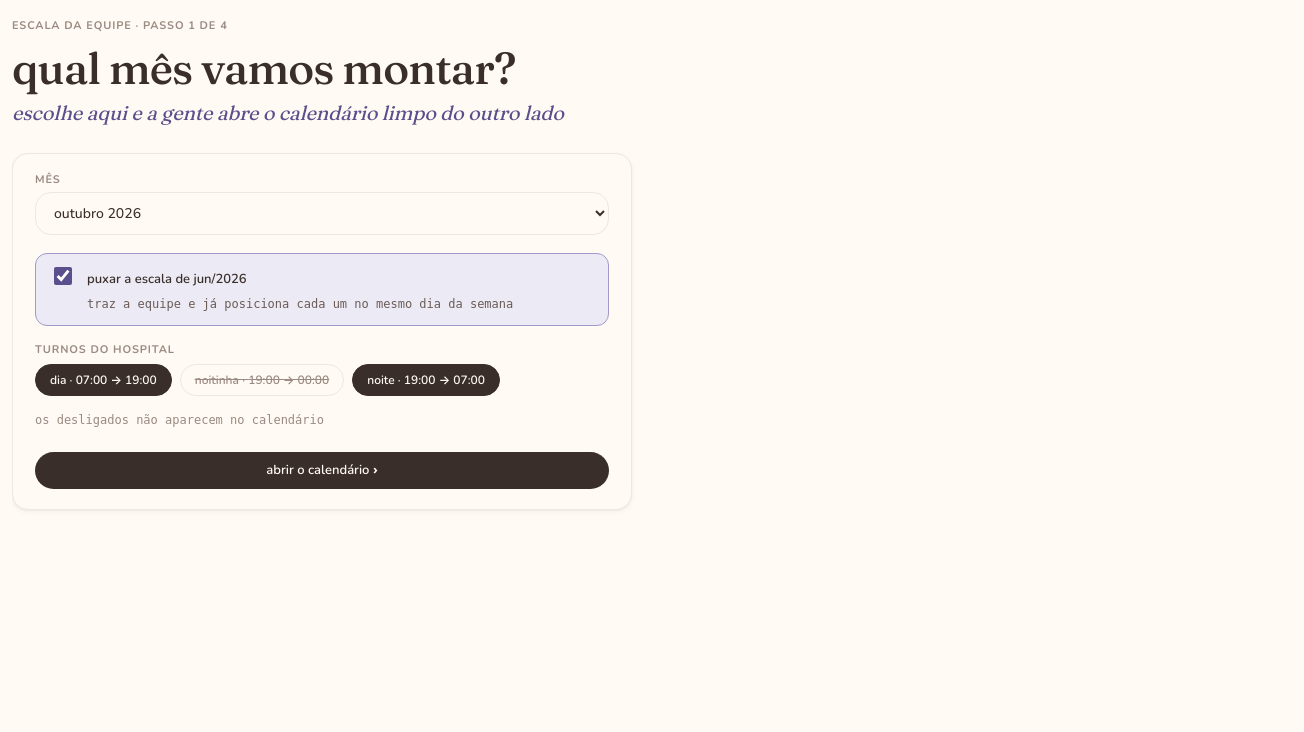
Test: EscalaEquipe · etapa 1 (setup) › checkbox marcado puxa nomes E posições ao abrir o calendário
This screenshot has width=1304, height=732.
expect the checkbox is checked: met, box x1=54 y1=267 x2=72 y2=285
What coordinates should you click on to do the following:
click the button "abrir o calendário ›"
I would click on:
 (322, 470)
Its box is x1=35 y1=452 x2=609 y2=489.
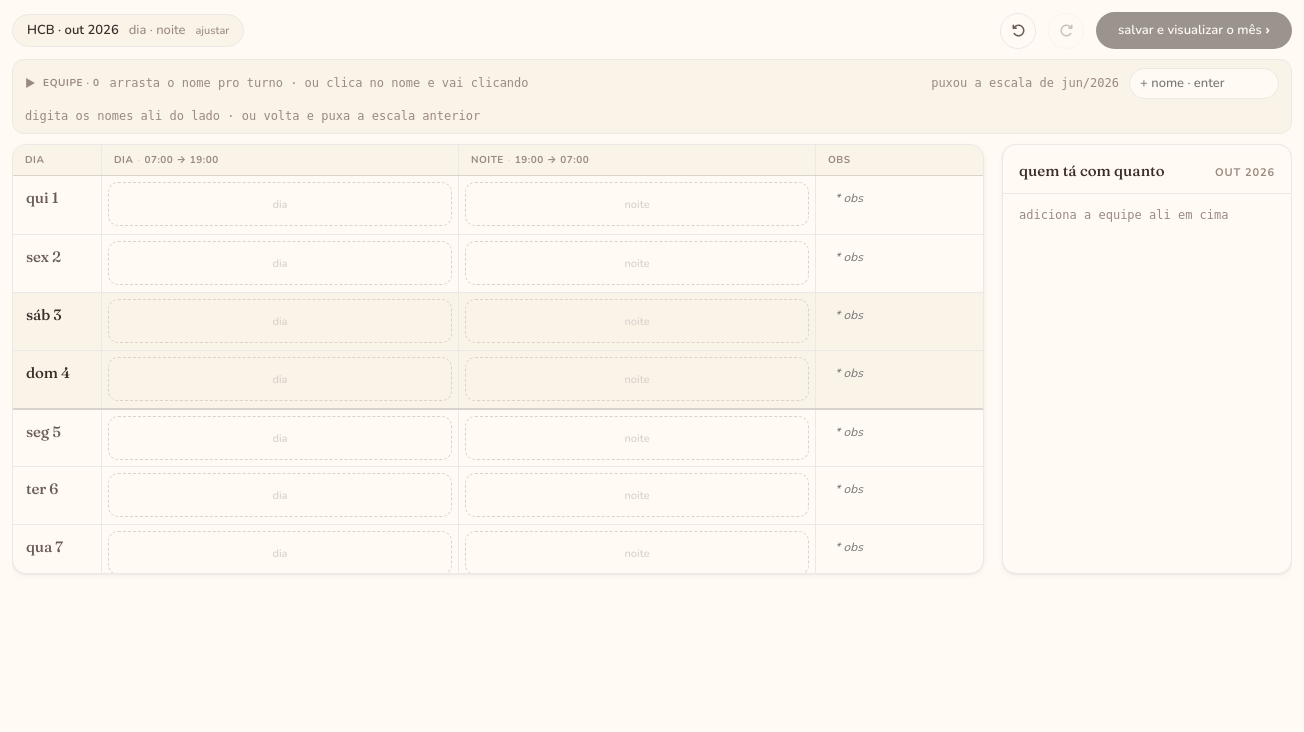
expect the button "salvar e visualizar o mês ›" is shown: met, box x1=1096 y1=12 x2=1292 y2=49
